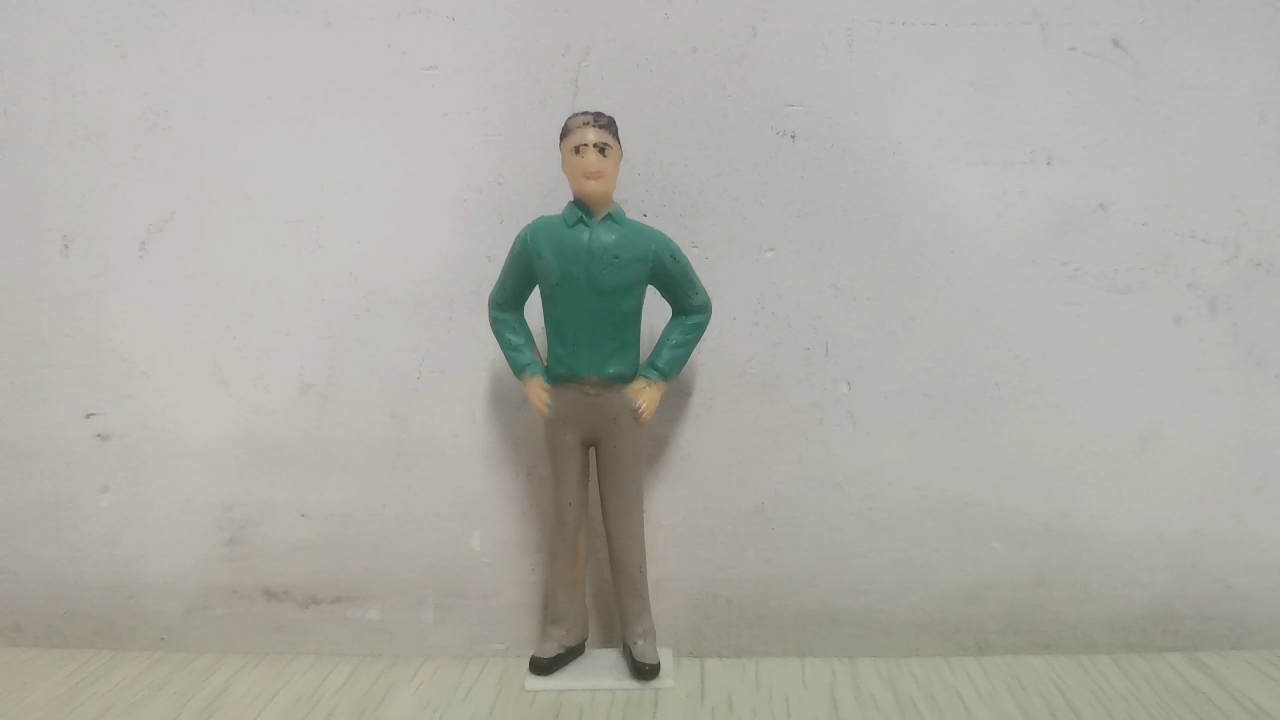person: (485, 109, 714, 684)
